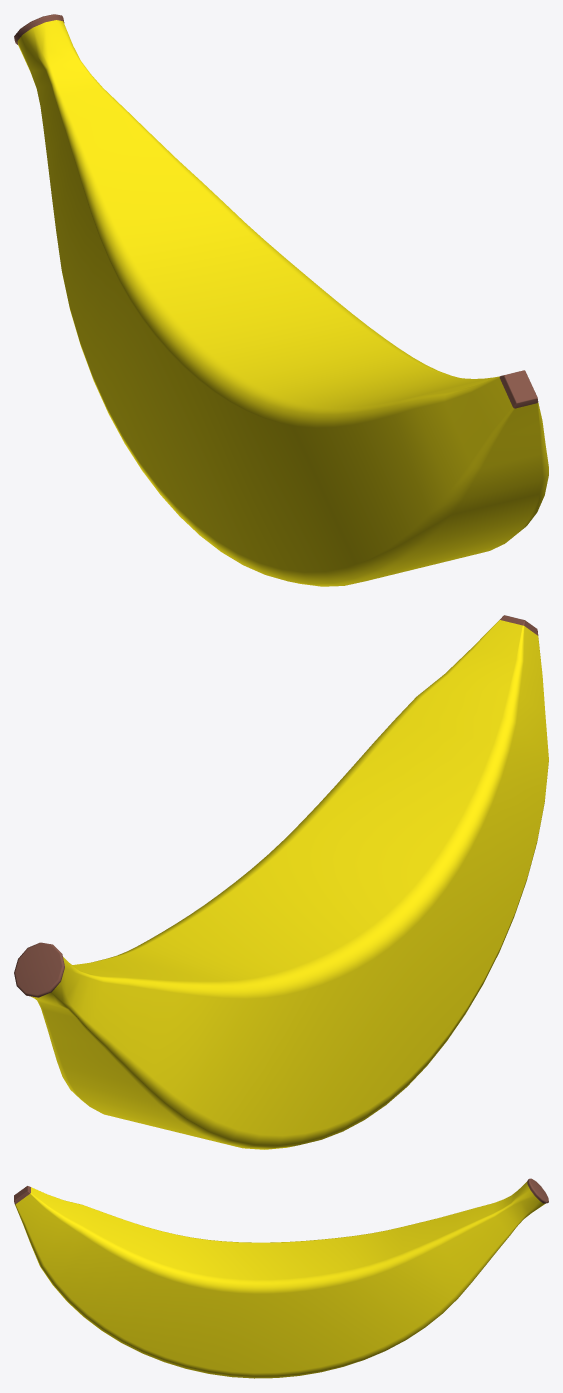
File: Farm_17_Banana_1.glb
3 renders of one model, top to bottom at view 1: azimuth 30°, elevation 25°; view 2: azimuth 150°, elevation 25°; view 3: azimuth 270°, elevation 25°, orthographic. The views are drawn at different scales.
Parts seen in each view (by area): view 1: Farm_17_Banana_1; view 2: Farm_17_Banana_1; view 3: Farm_17_Banana_1.
Part boxes in pixels (<box>): Farm_17_Banana_1: <box>14,14,548,586</box>; Farm_17_Banana_1: <box>14,615,548,1149</box>; Farm_17_Banana_1: <box>14,1178,548,1378</box>.
Bounding box in the file's own units: 0.1088 × 0.1986 × 0.5359.
1 material, 1 textured.
